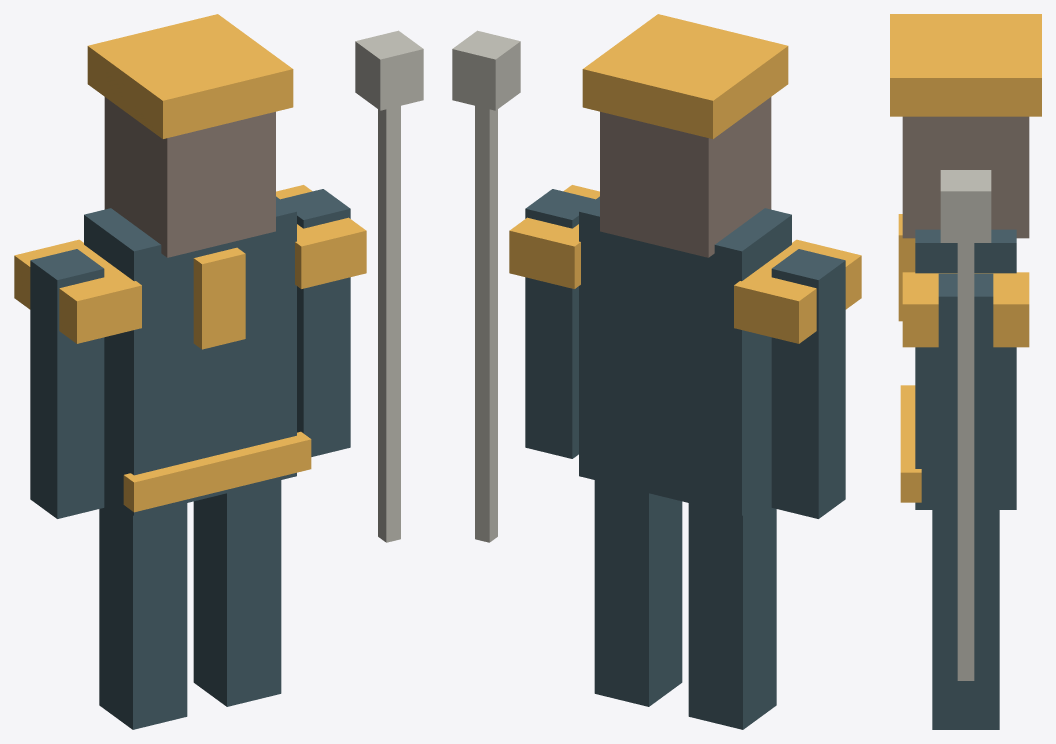
Rendered from 04_auren_rootborne_scout_near_quarantine.glb.
3 renders of one model, left to right at view 1: azimuth 30°, elevation 25°; view 2: azimuth 150°, elevation 25°; view 3: azimuth 270°, elevation 25°, orthographic.
Visible parts, largest first — view 1: Auren Rootborne, Scout near Quarantine; view 2: Auren Rootborne, Scout near Quarantine; view 3: Auren Rootborne, Scout near Quarantine.
Part boxes in pixels (box(x1,y1,x2,y2)): Auren Rootborne, Scout near Quarantine: box(14, 14, 423, 729); Auren Rootborne, Scout near Quarantine: box(452, 14, 861, 729); Auren Rootborne, Scout near Quarantine: box(890, 14, 1041, 729).
Size of the model in its own units: 1.02 by 1.71 by 0.3631.
